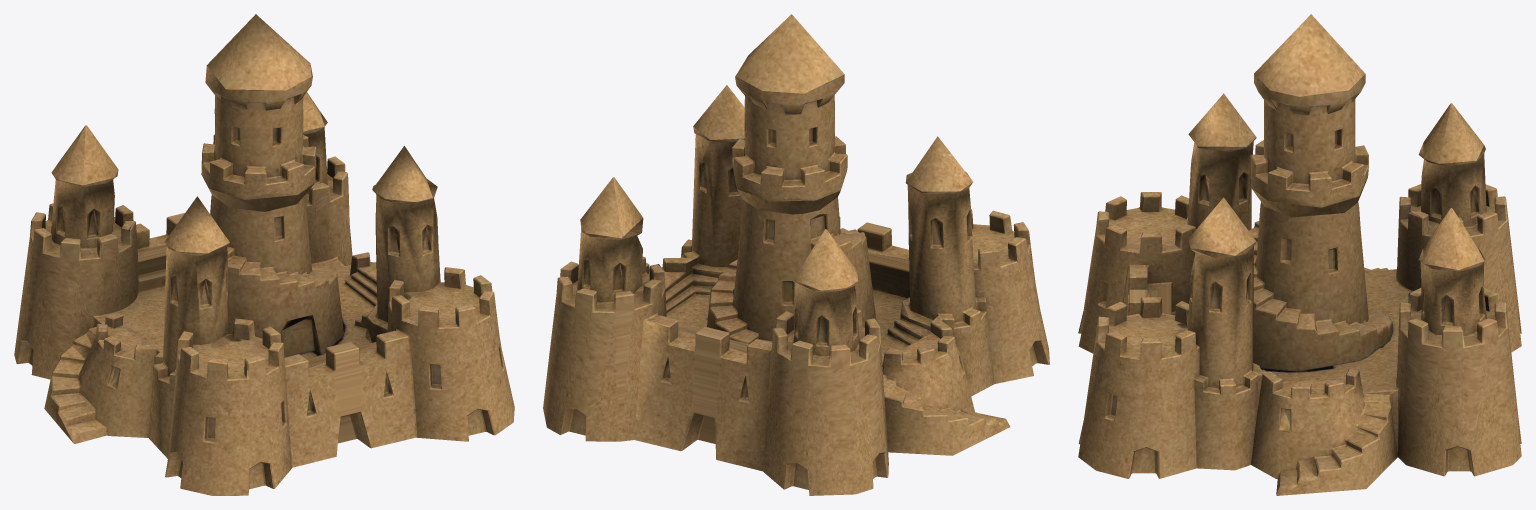
The model's file is sandcastle.glb.
3 renders of one model, left to right at view 1: azimuth 30°, elevation 25°; view 2: azimuth 150°, elevation 25°; view 3: azimuth 270°, elevation 25°, orthographic. The views are drawn at different scales.
Parts seen in each view (by area): view 1: Cylinder.001_Material.001_0; view 2: Cylinder.001_Material.001_0; view 3: Cylinder.001_Material.001_0.
Part boxes in pixels (x1=…): Cylinder.001_Material.001_0: x1=14, y1=14, x2=514, y2=495; Cylinder.001_Material.001_0: x1=543, y1=14, x2=1049, y2=495; Cylinder.001_Material.001_0: x1=1078, y1=14, x2=1521, y2=495.
Bounding box in the file's own units: 9.06 × 7.95 × 8.42.
Materials: 1 (1 with a texture image).
